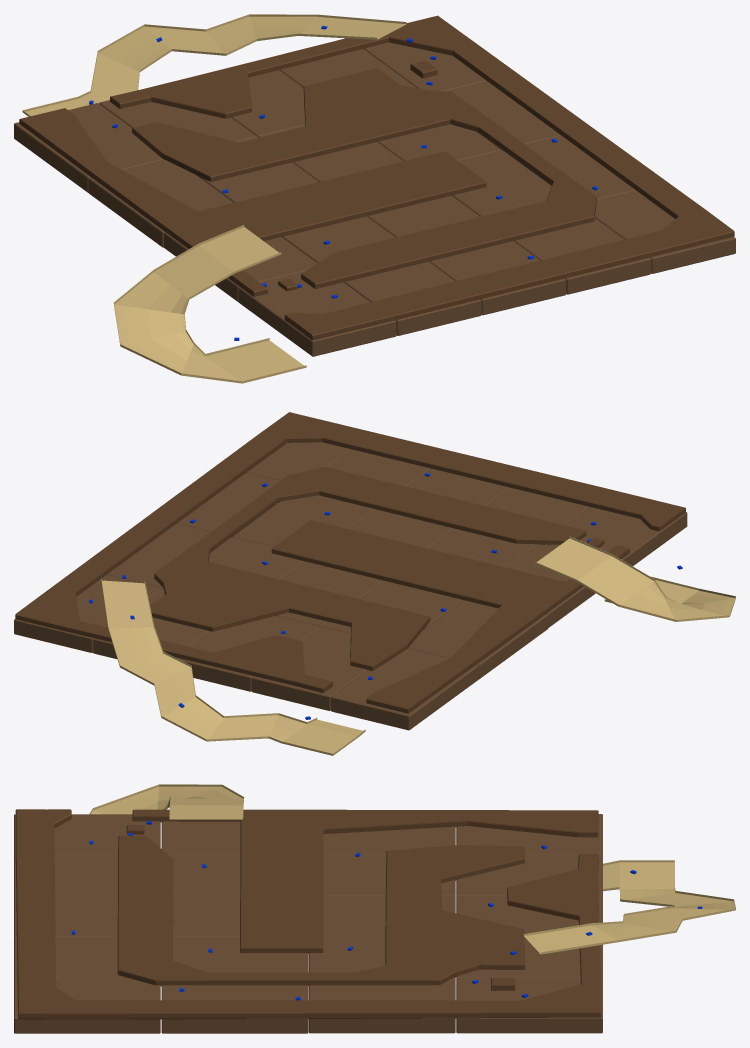
Rendered from Track 1 Prototype.fbx.
The picture shows the model from 3 angles, top to bottom: view 1: azimuth 30°, elevation 25°; view 2: azimuth 150°, elevation 25°; view 3: azimuth 270°, elevation 25°; orthographic projection. The views are drawn at different scales.
Visible parts, largest first — view 1: Pembatas, Arena, Floating Road1, Plane; view 2: Pembatas, Arena, Plane, Floating Road1; view 3: Pembatas, Arena, Plane, Floating Road1.
Part boxes in pixels (left/top/right/bottom): Pembatas: left=19, top=15, right=734, bottom=340; Arena: left=14, top=42, right=735, bottom=356; Floating Road1: left=113, top=225, right=306, bottom=383; Plane: left=22, top=14, right=406, bottom=116; Pembatas: left=15, top=412, right=685, bottom=713; Arena: left=14, top=442, right=687, bottom=730; Plane: left=101, top=579, right=365, bottom=755; Floating Road1: left=534, top=536, right=735, bottom=621; Pembatas: left=15, top=809, right=601, bottom=1019; Arena: left=14, top=814, right=602, bottom=1033; Plane: left=523, top=860, right=735, bottom=954; Floating Road1: left=89, top=784, right=244, bottom=819.
Bounding box in the file's own units: 23876 × 3751 × 27845.
